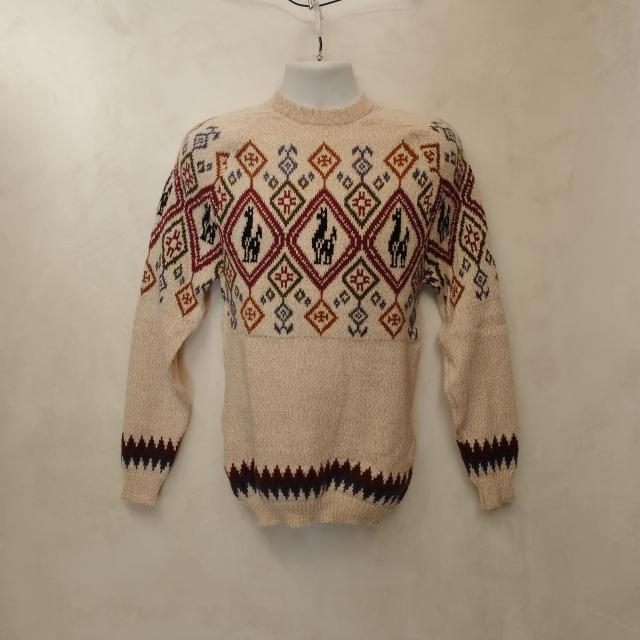Chompa: (119, 61, 520, 528)
